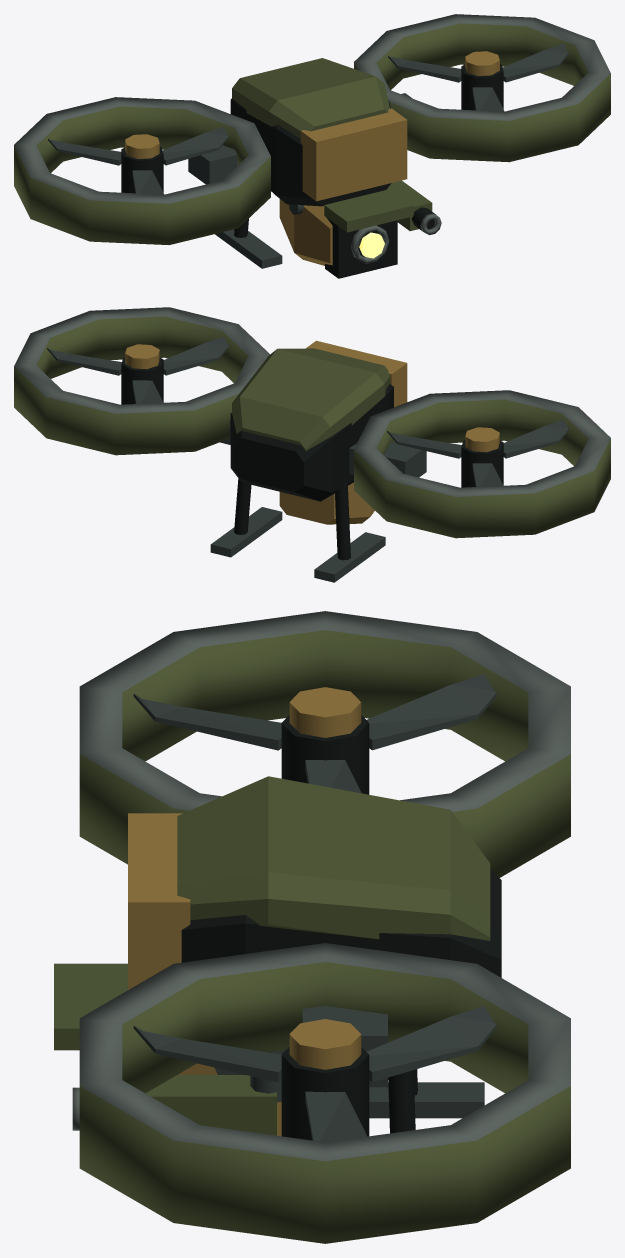
Rendered from BUZZ_DRONE.far.glb.
3 renders of one model, top to bottom at view 1: azimuth 30°, elevation 25°; view 2: azimuth 150°, elevation 25°; view 3: azimuth 270°, elevation 25°, orthographic. The views are drawn at different scales.
Visible parts, largest first — view 1: FlightTilt_Mesh, OpticGimbal_Mesh, Rotor_L_Mesh, Rotor_R_Mesh, ProjectionNozzle_Mesh; view 2: FlightTilt_Mesh, Rotor_R_Mesh, Rotor_L_Mesh, OpticGimbal_Mesh; view 3: FlightTilt_Mesh, Rotor_R_Mesh, Rotor_L_Mesh, ProjectionNozzle_Mesh, OpticGimbal_Mesh.
Boxes of the visible parts, bbox=[...] form: FlightTilt_Mesh: bbox=[14, 14, 610, 268]; OpticGimbal_Mesh: bbox=[279, 189, 413, 278]; Rotor_L_Mesh: bbox=[48, 127, 228, 194]; Rotor_R_Mesh: bbox=[388, 44, 568, 111]; ProjectionNozzle_Mesh: bbox=[386, 180, 441, 235]; FlightTilt_Mesh: bbox=[14, 307, 610, 582]; Rotor_R_Mesh: bbox=[47, 337, 228, 404]; Rotor_L_Mesh: bbox=[387, 420, 568, 487]; OpticGimbal_Mesh: bbox=[279, 482, 374, 524]; FlightTilt_Mesh: bbox=[79, 611, 570, 1243]; Rotor_R_Mesh: bbox=[133, 1006, 496, 1142]; Rotor_L_Mesh: bbox=[133, 674, 496, 794]; ProjectionNozzle_Mesh: bbox=[72, 1050, 285, 1135]; OpticGimbal_Mesh: bbox=[54, 963, 281, 1136].
Bounding box in the file's own units: 2.29 × 0.649 × 0.9088.
